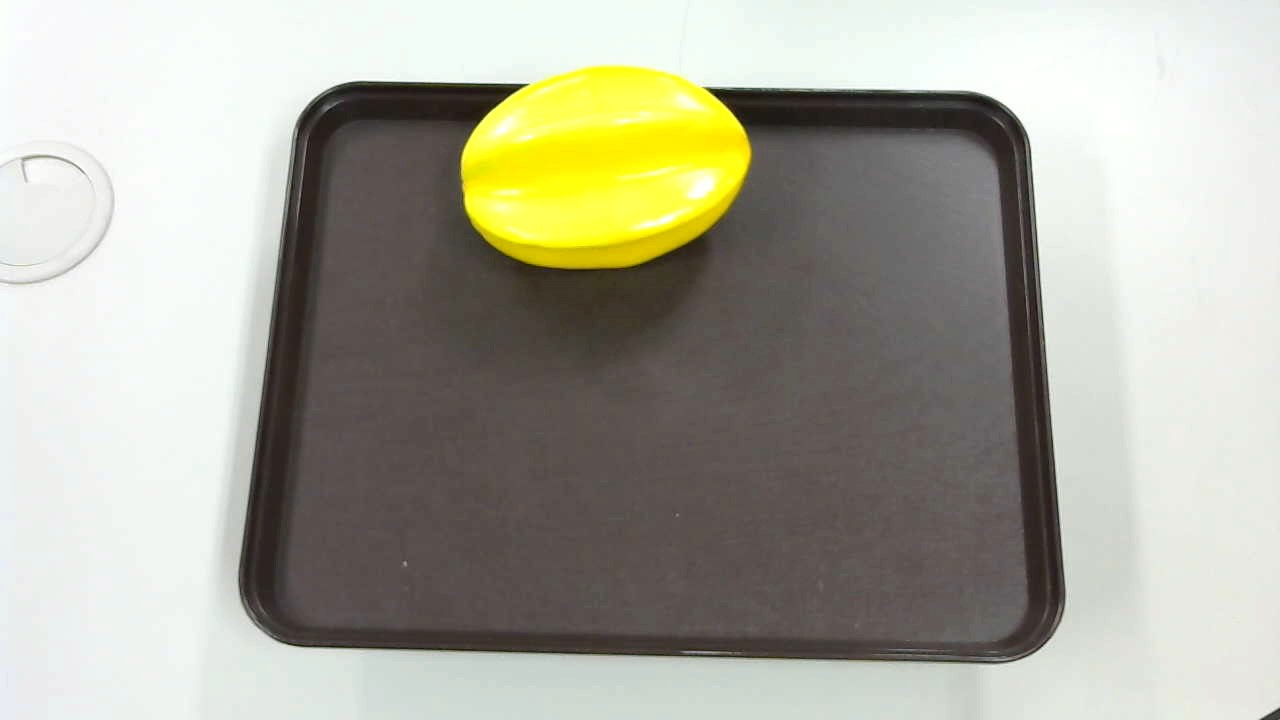star fruit: (452, 64, 756, 278)
